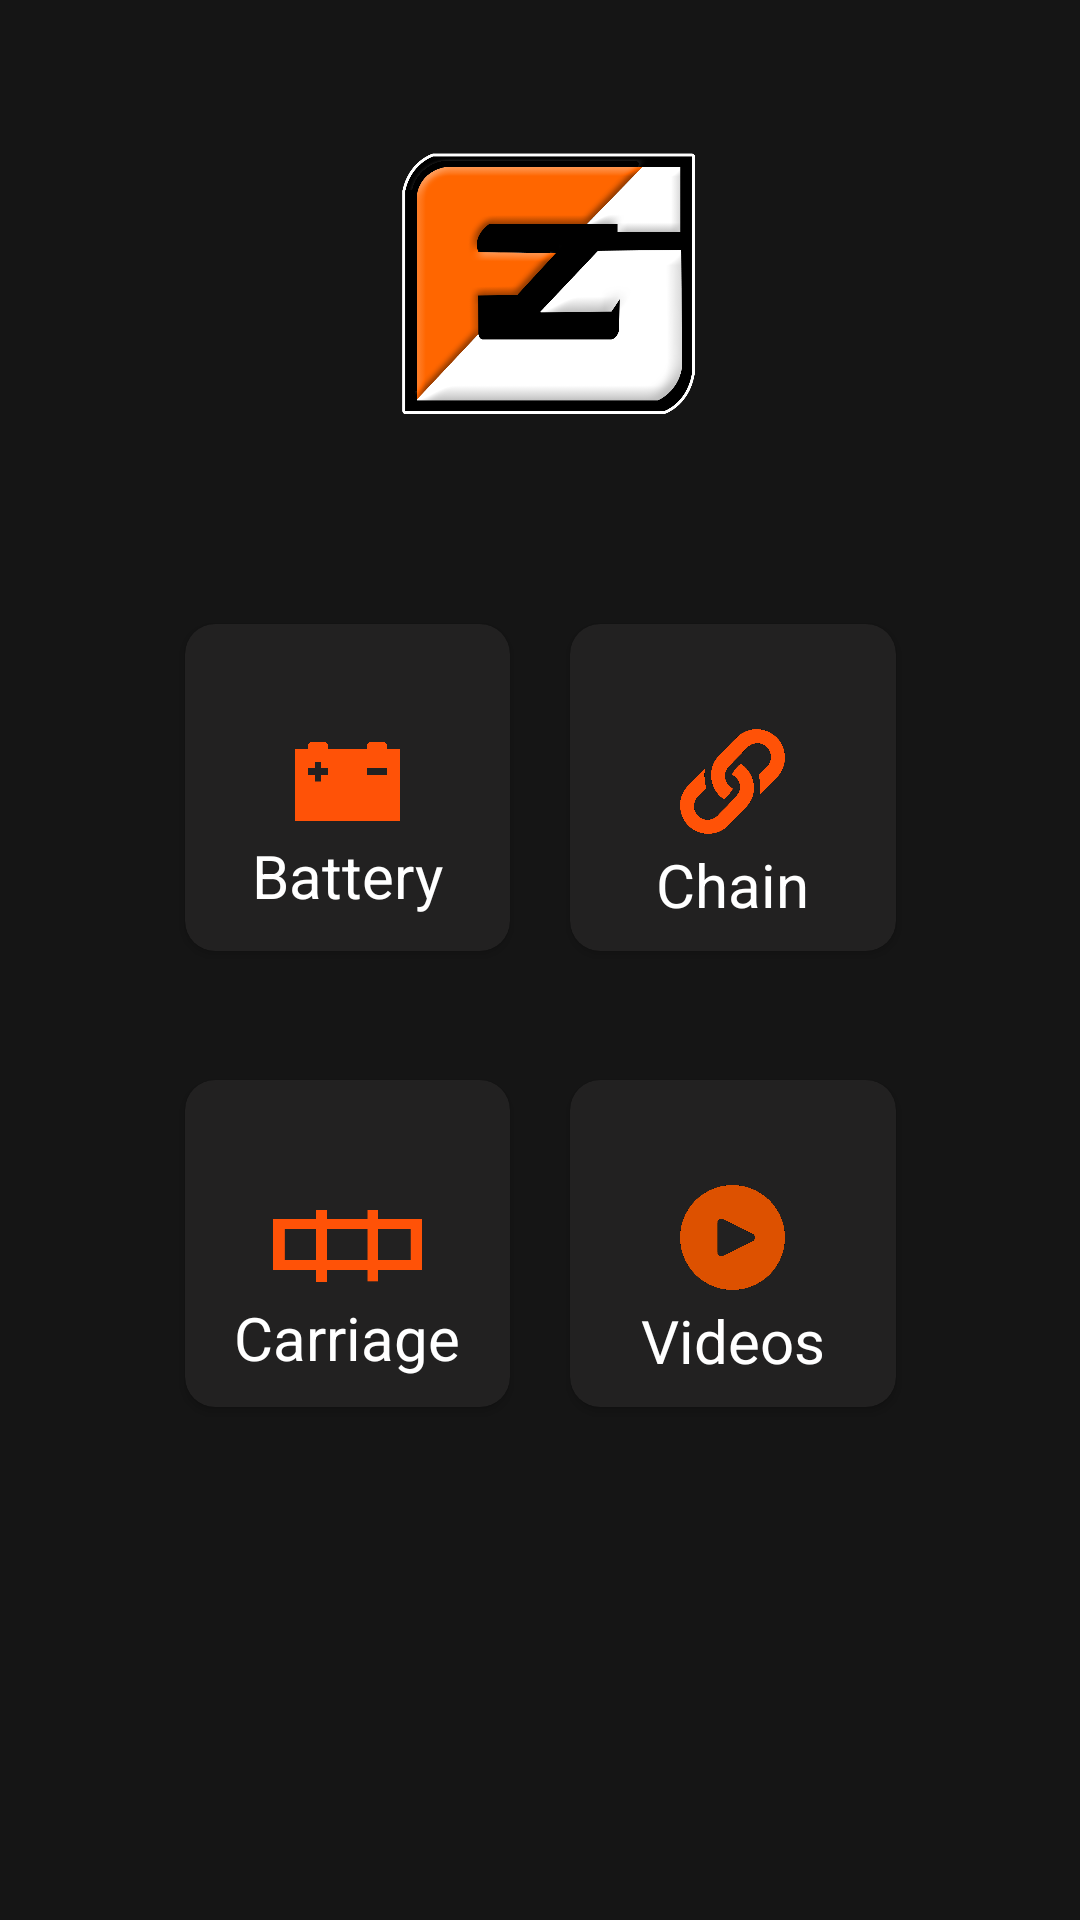

Where icons sit on this 1080w x 1920h app screen, as (x1, y1, x2, y2):
play: (680, 1185, 785, 1327)
